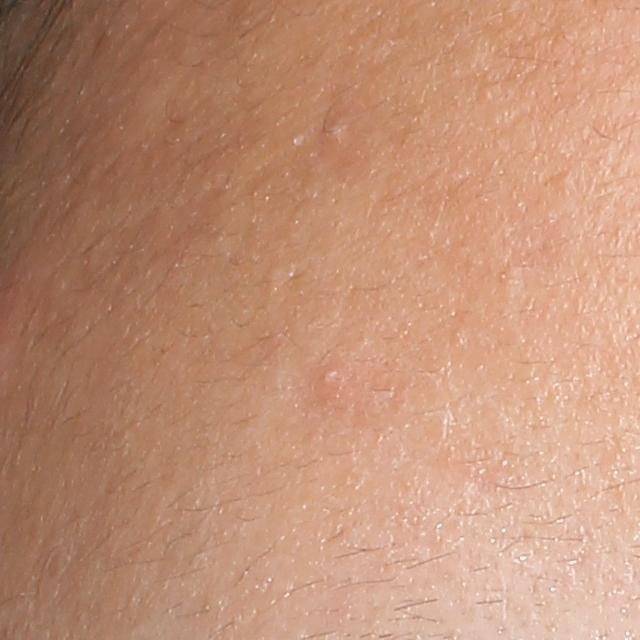comedo: (325, 114, 359, 150)
